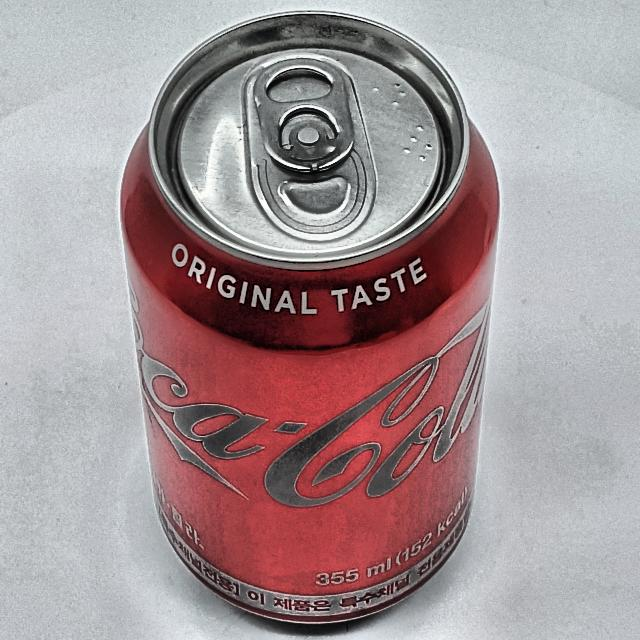cocacola: (121, 12, 499, 622)
